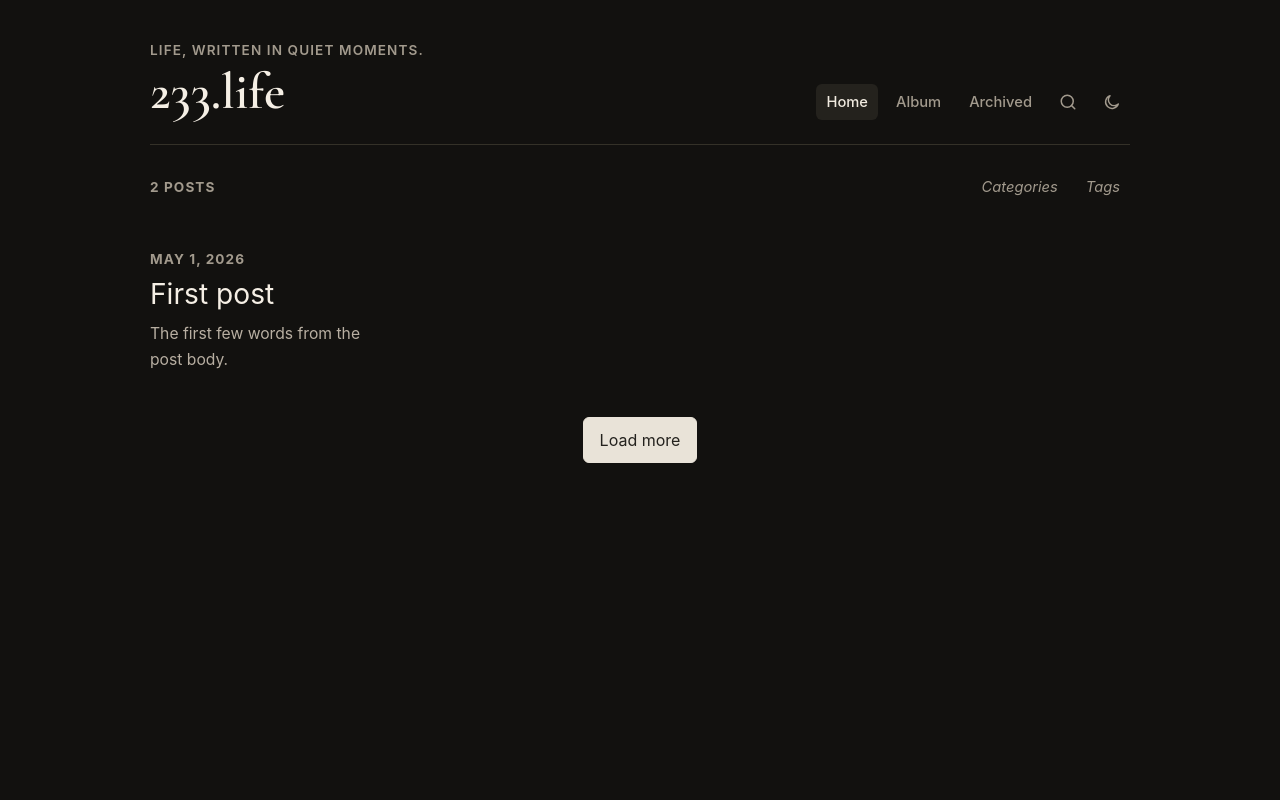
Test case: home pagination › opens the tag picker and filters posts by the selected tag
expect the heading "First post" is shown: met, box [150,276,274,310]
Click the button "Tags": x=1103, y=187 [1076,169,1130,205]
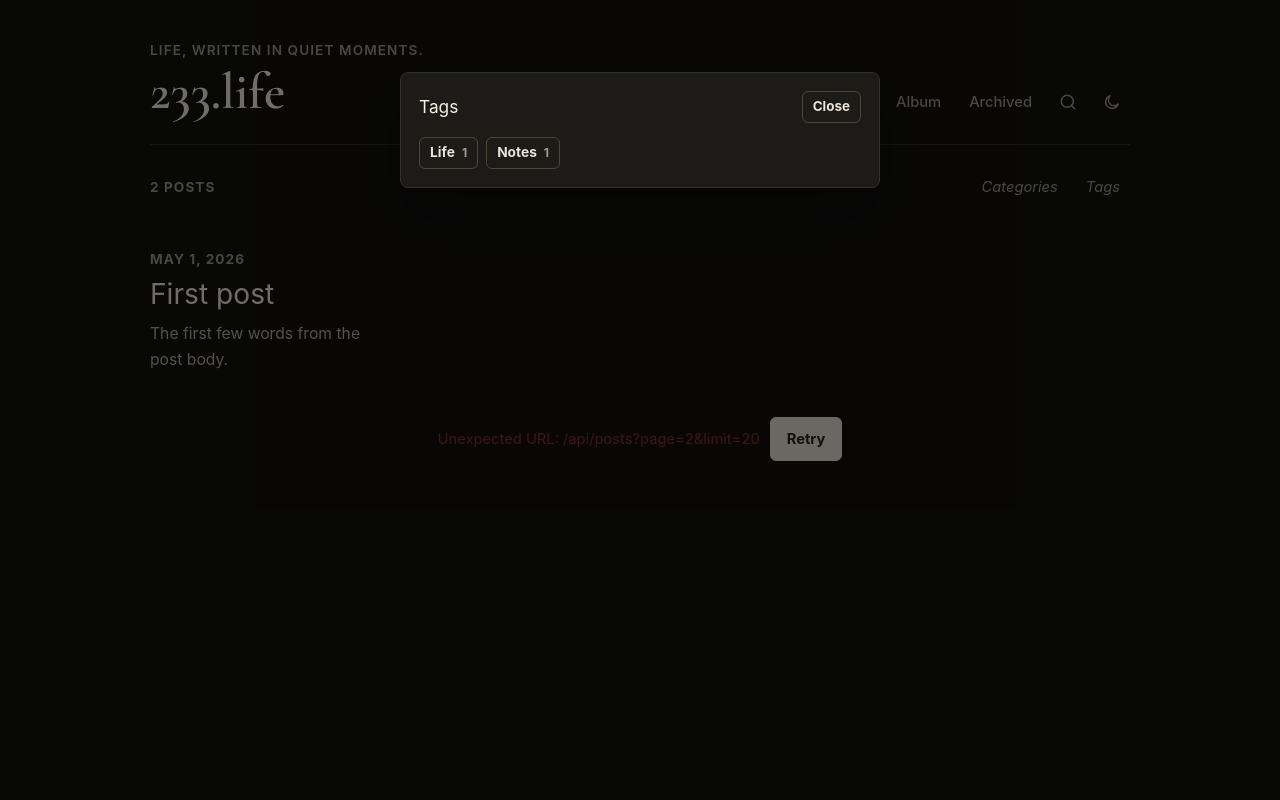
Click the button "Life 1": x=449, y=153 [419,137,478,169]
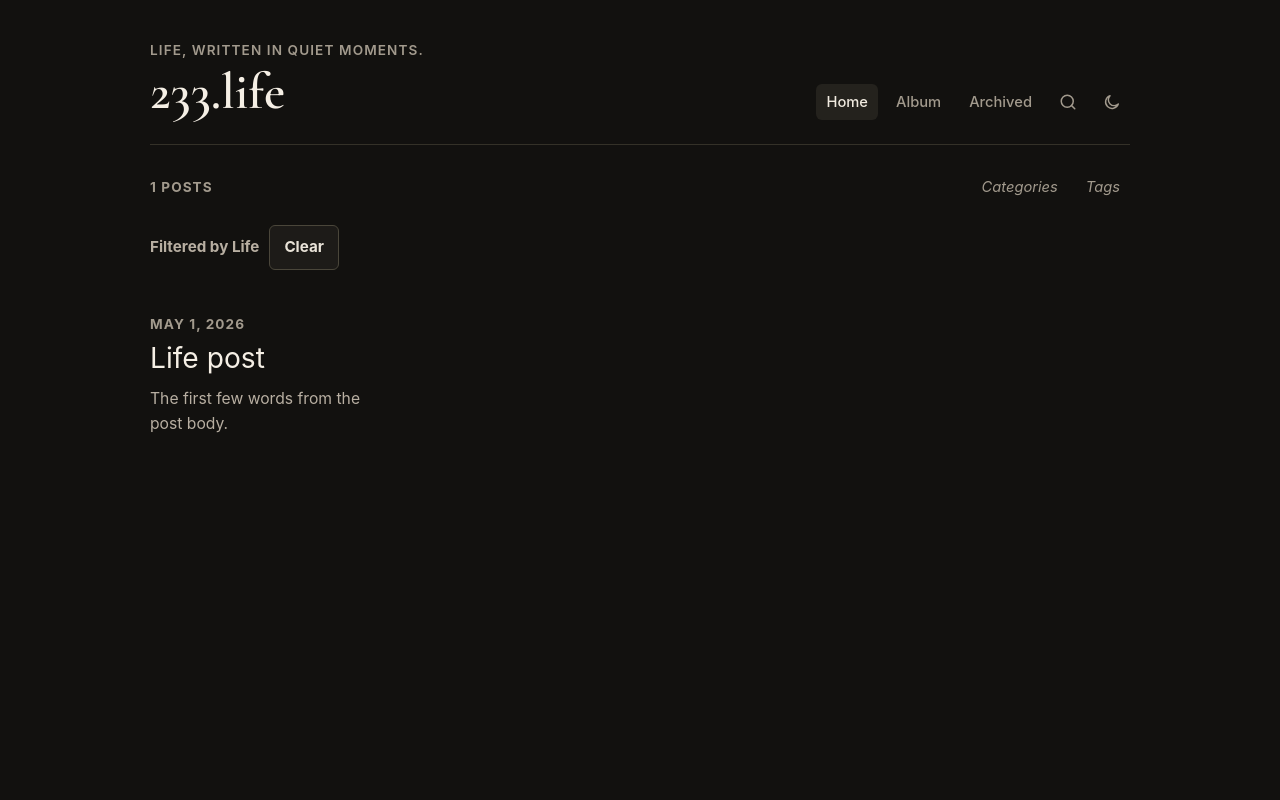
expect the heading "Life post" is shown: met, box [150,341,265,375]
expect the text "Filtered by Life" is shown: met, box [150,225,339,270]
